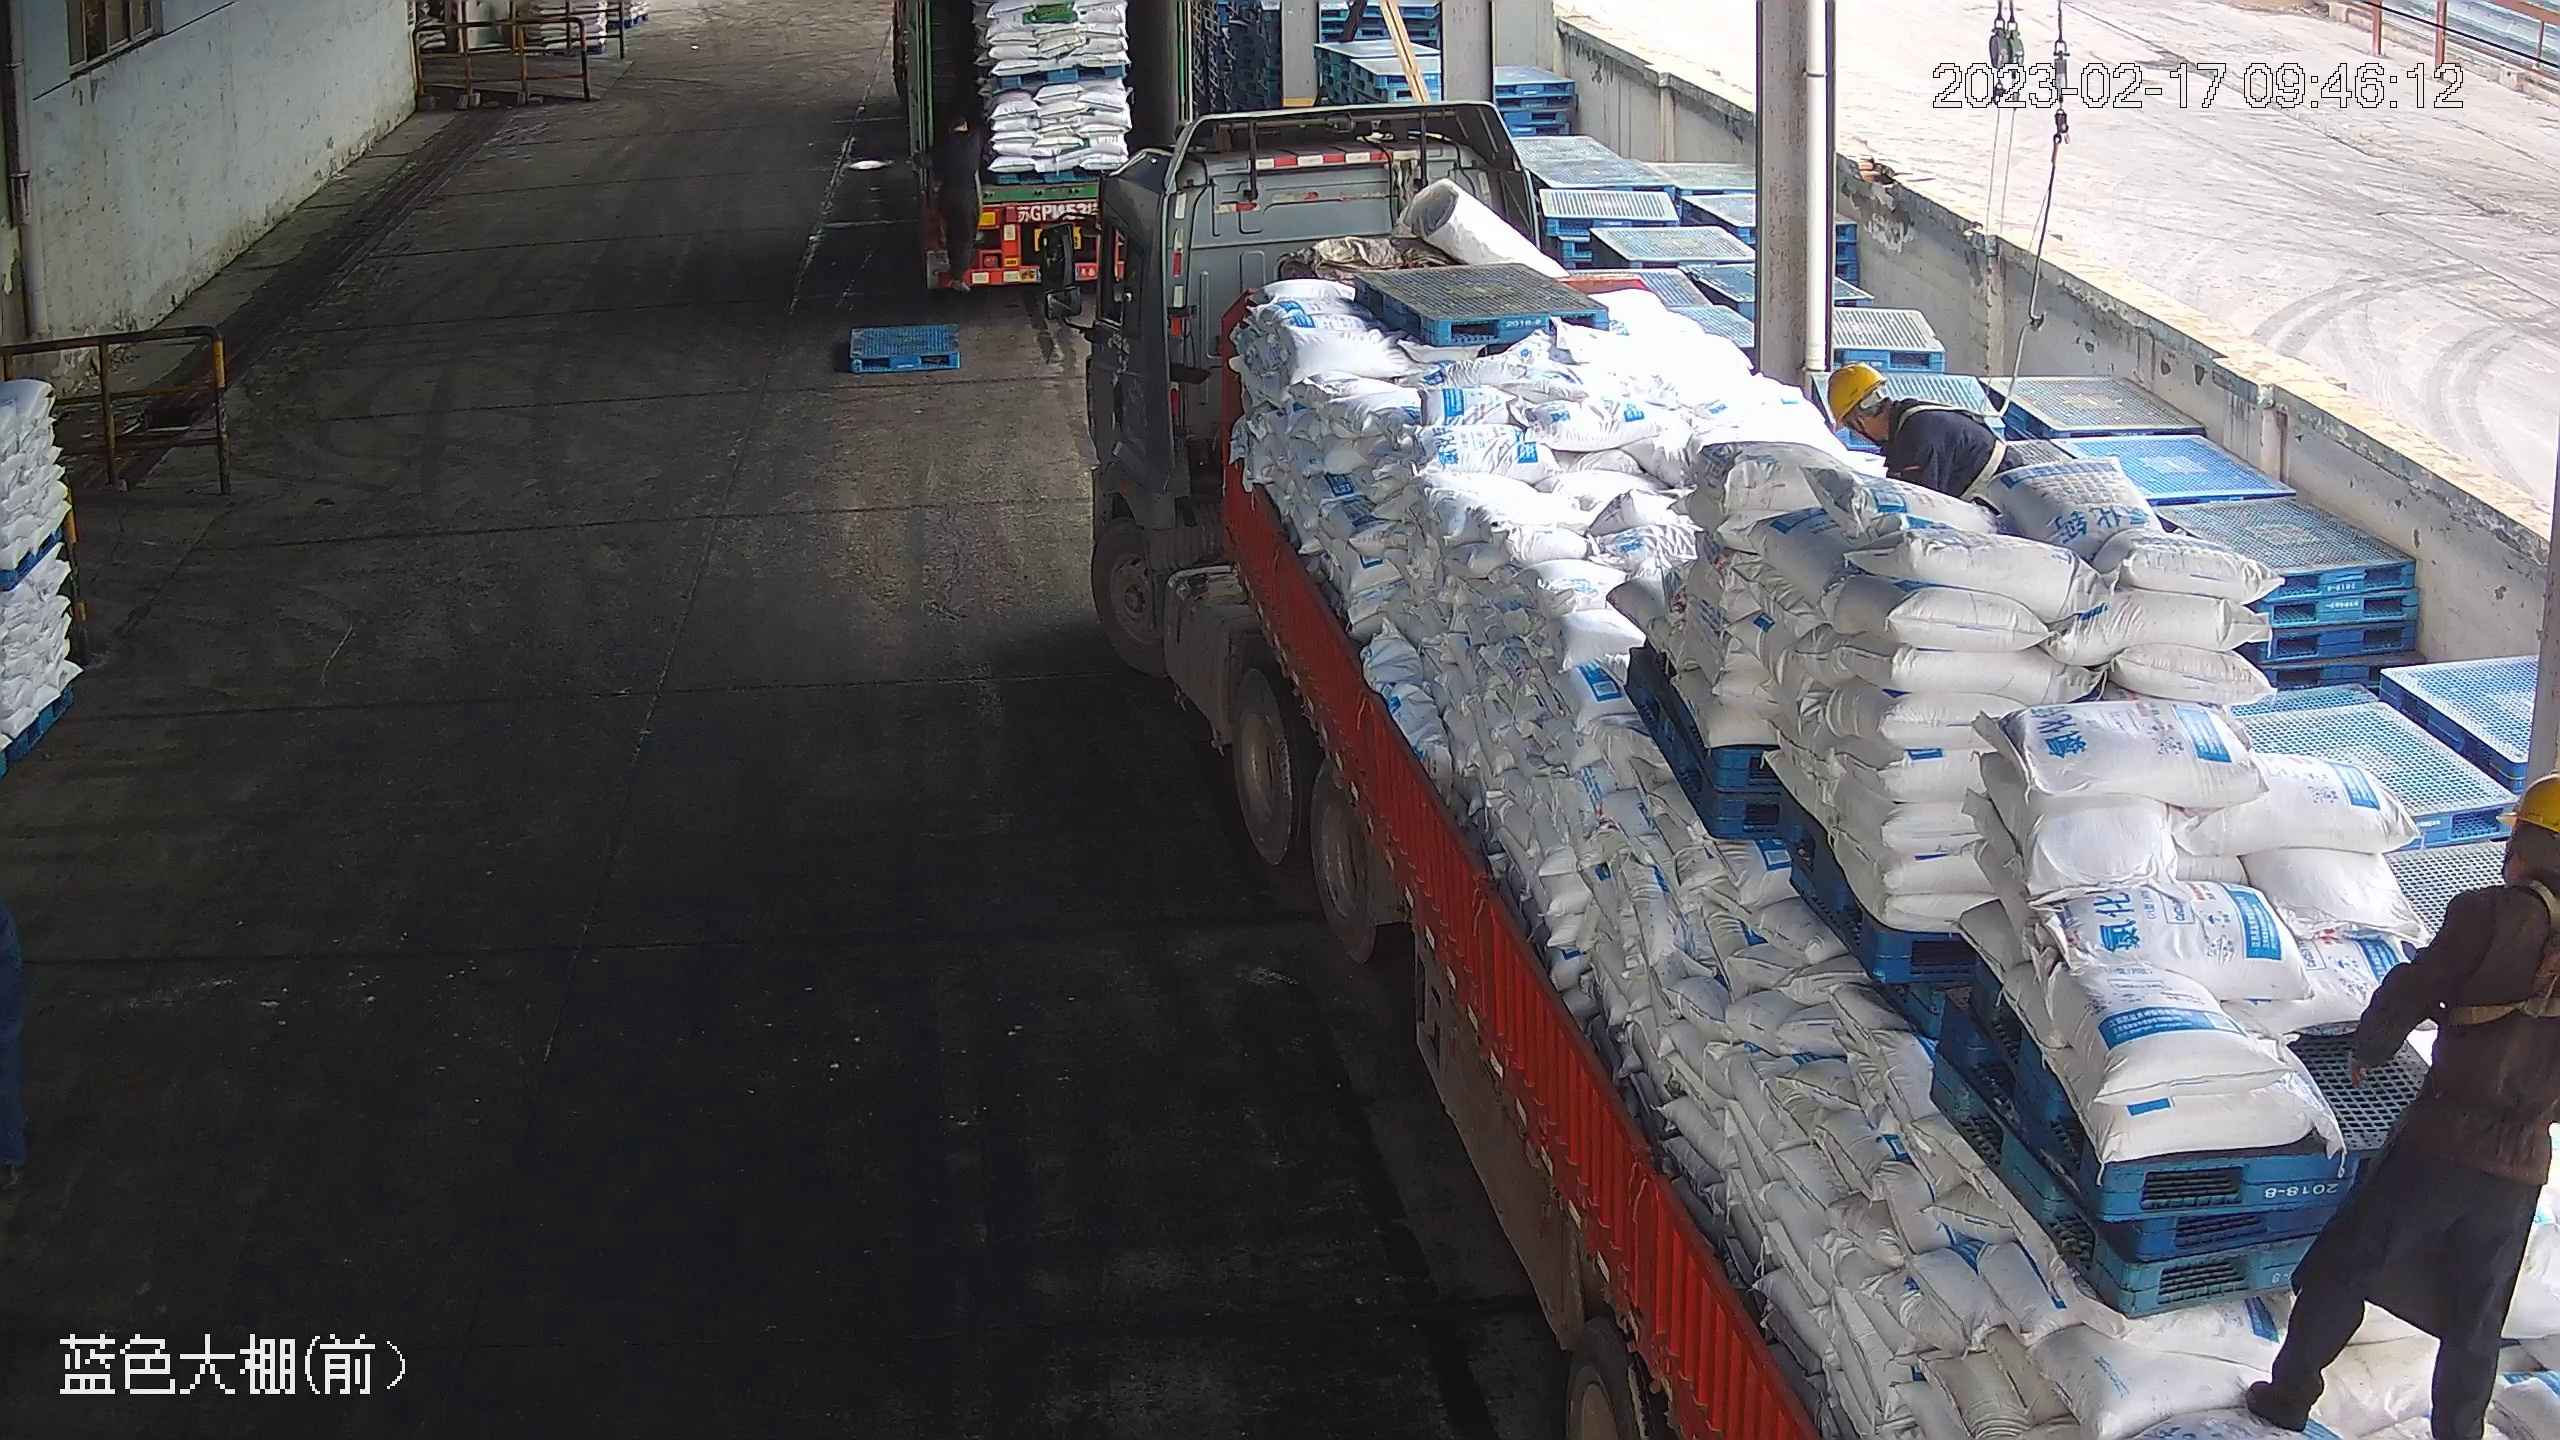belt: (2448, 880, 2560, 1031), (1890, 397, 2008, 491)
head: (2430, 769, 2559, 983), (1828, 362, 1953, 460)
helmet: (2505, 769, 2560, 851), (1824, 362, 1888, 430)
people: (2240, 765, 2560, 1437)
truck: (1070, 101, 2556, 1440), (868, 1, 1200, 328)
